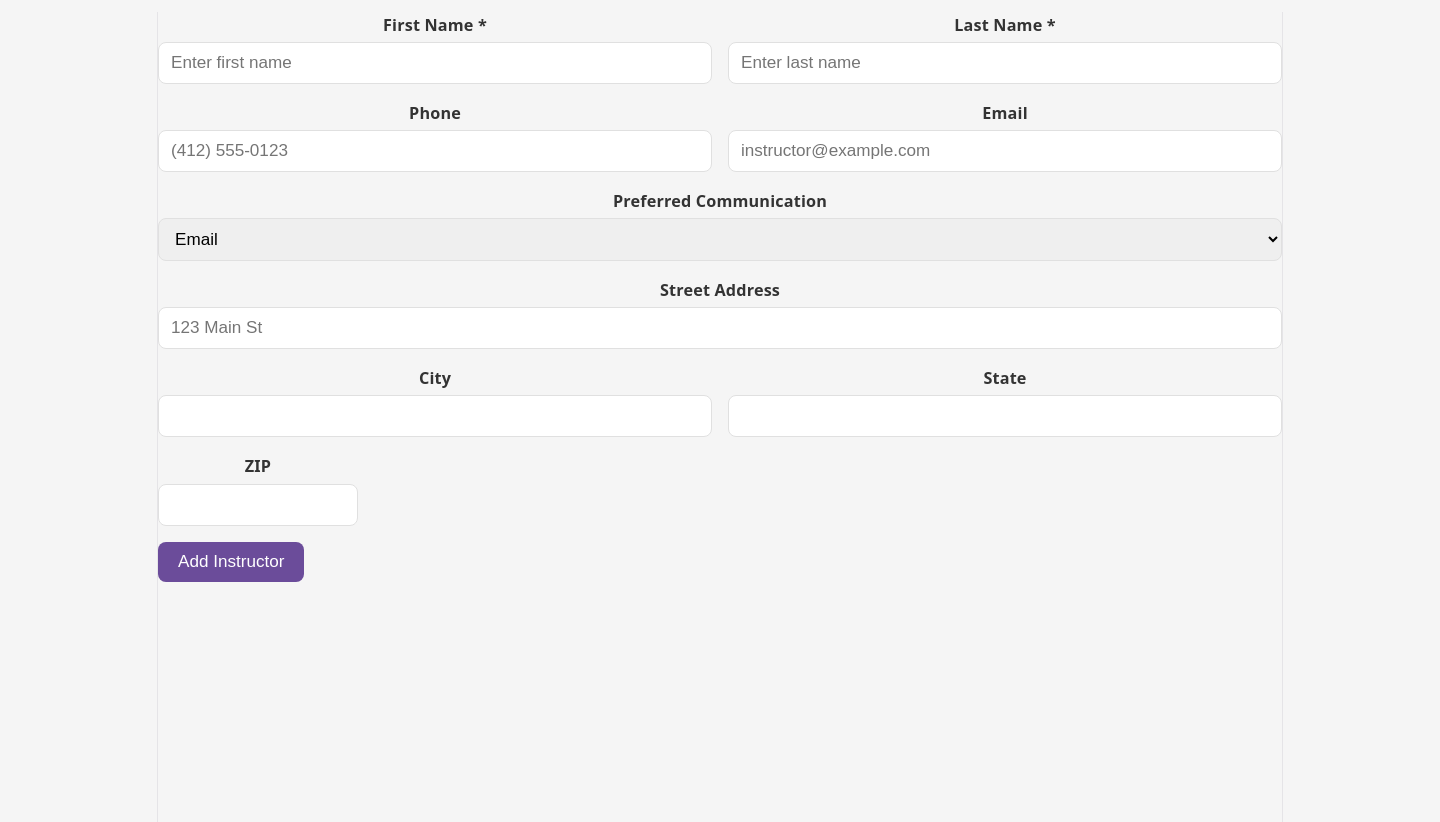
Scenario: InstructorForm — required field validation › shows error when preferred communication is email and email is empty
Type "Jane" into the field with placeholder "Enter first name" at (435, 63), box [158,42,712,84]
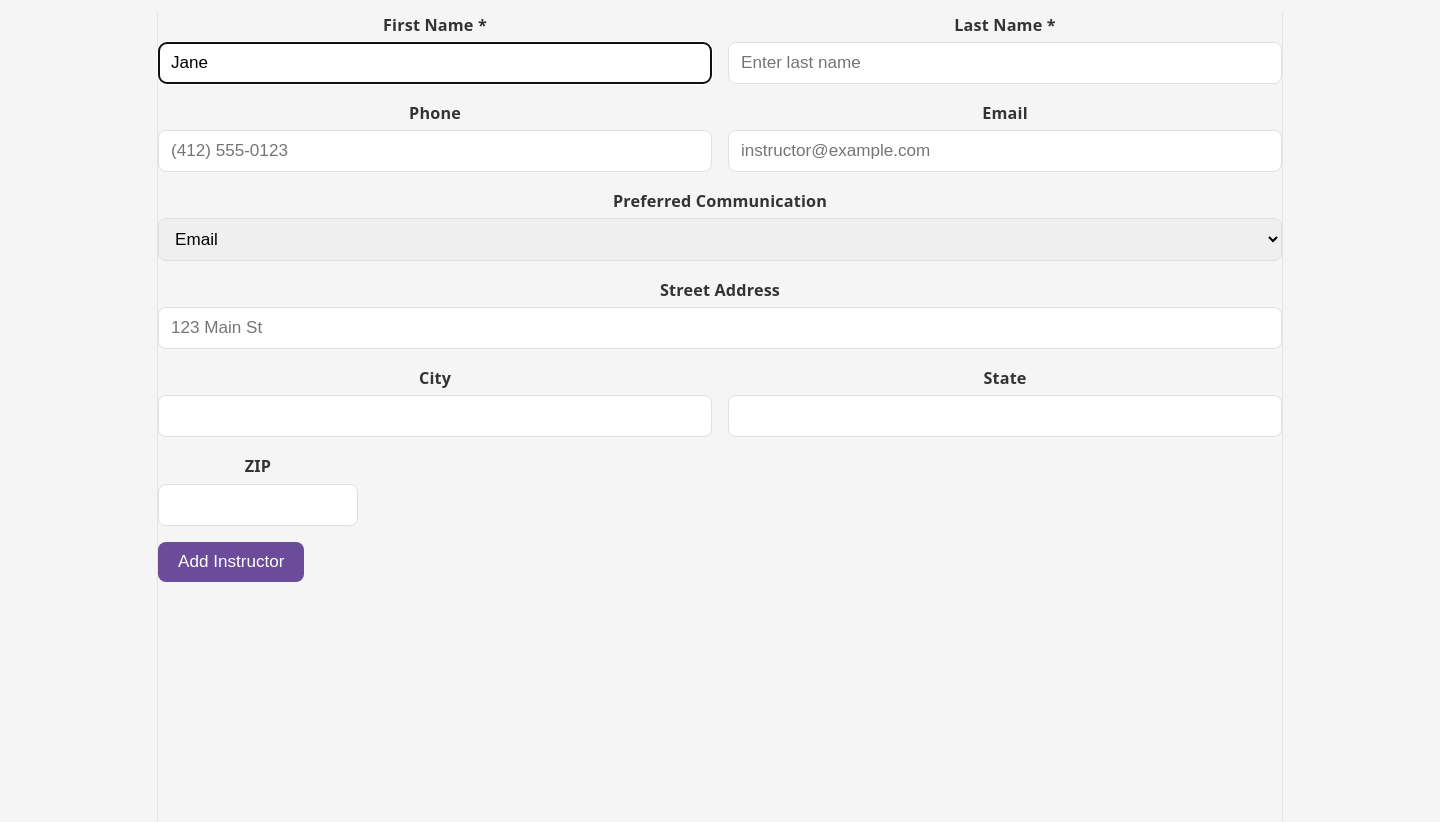
Type "Smith" into the field with placeholder "Enter last name" at (1005, 63), box [728,42,1282,84]
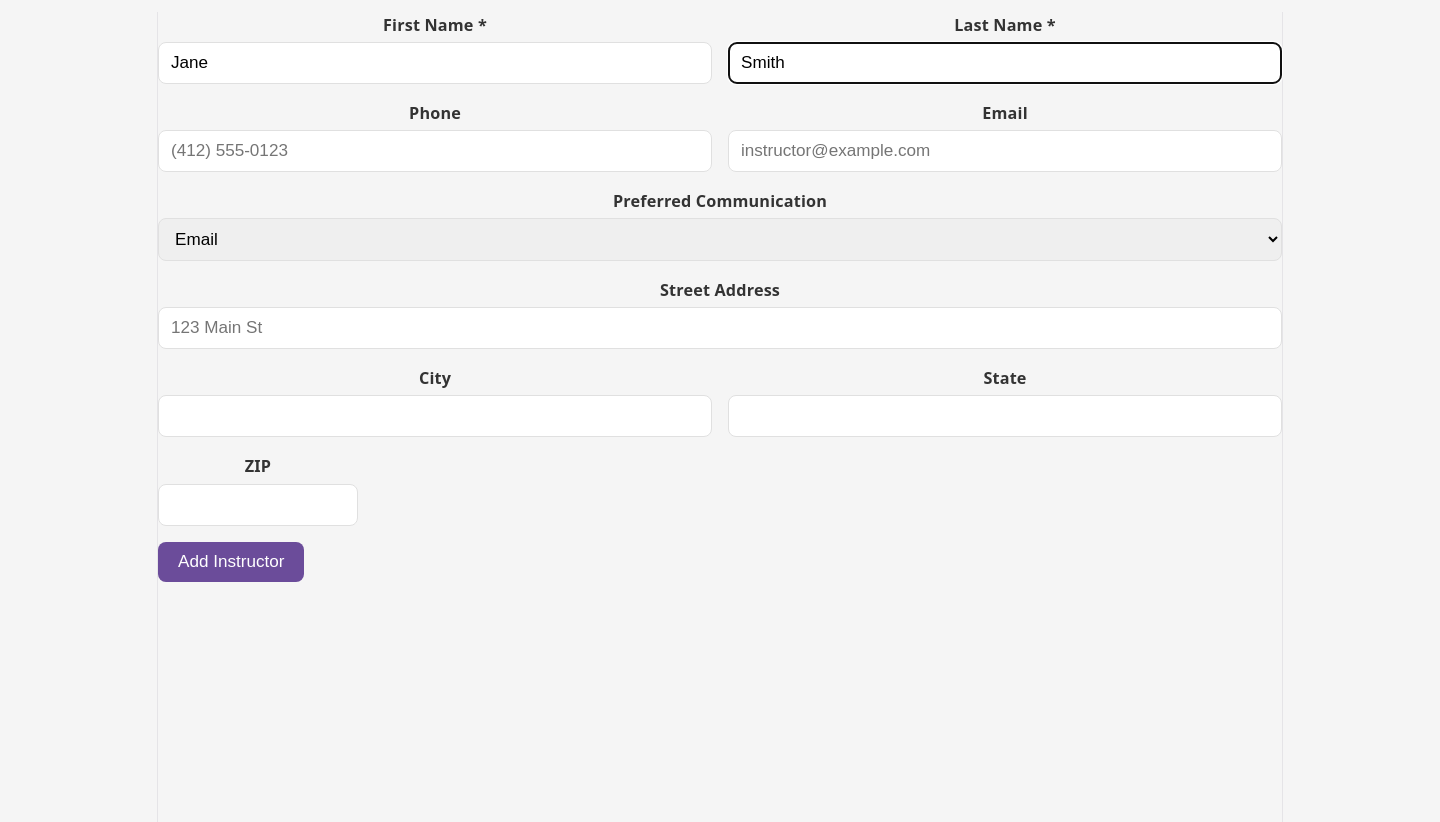
Submit the form from the button "Add Instructor", box [158,542,304,582]
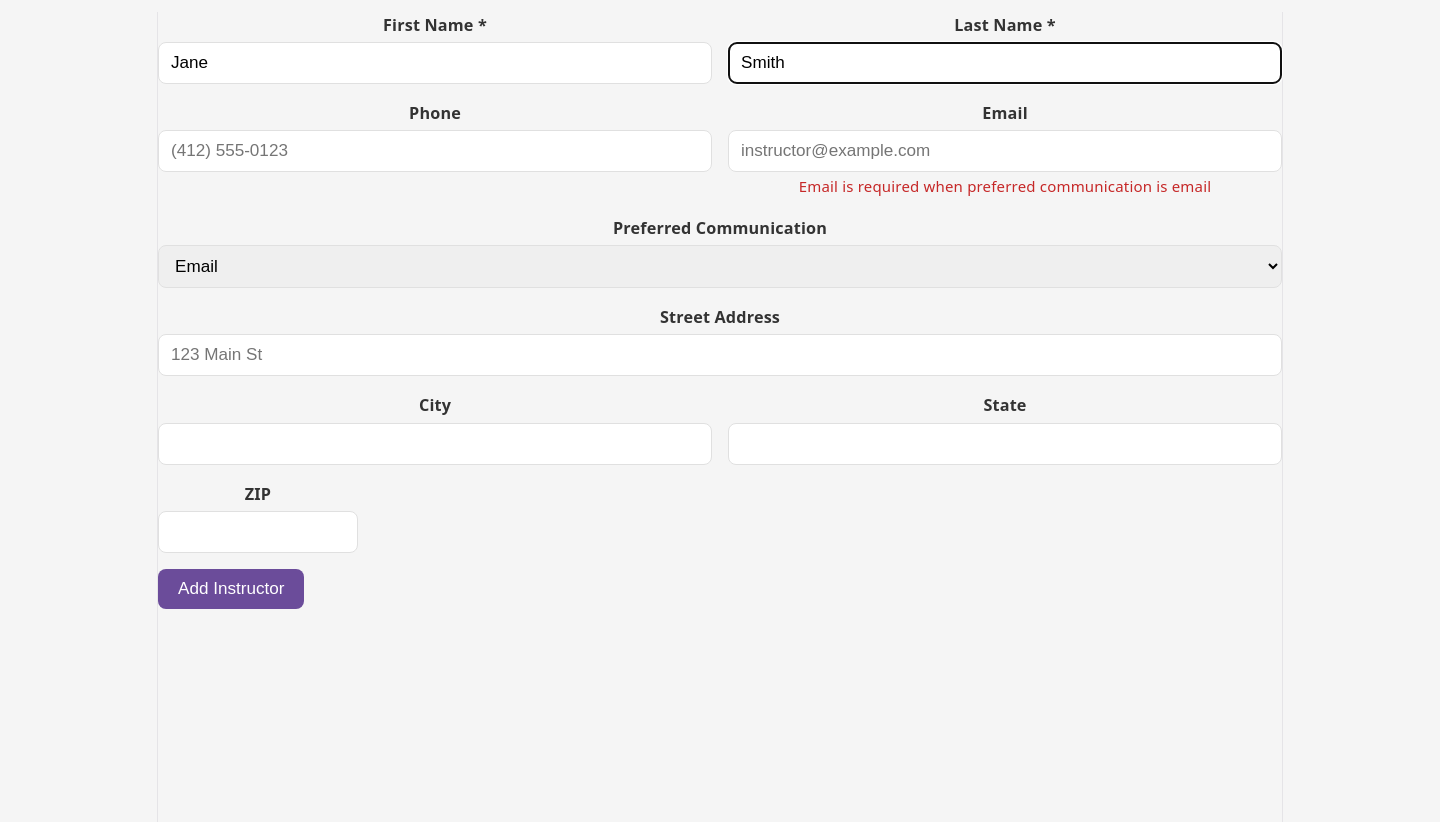
Expected: the text "Email is required when preferred communication is email" is shown, [799,176,1211,196]
